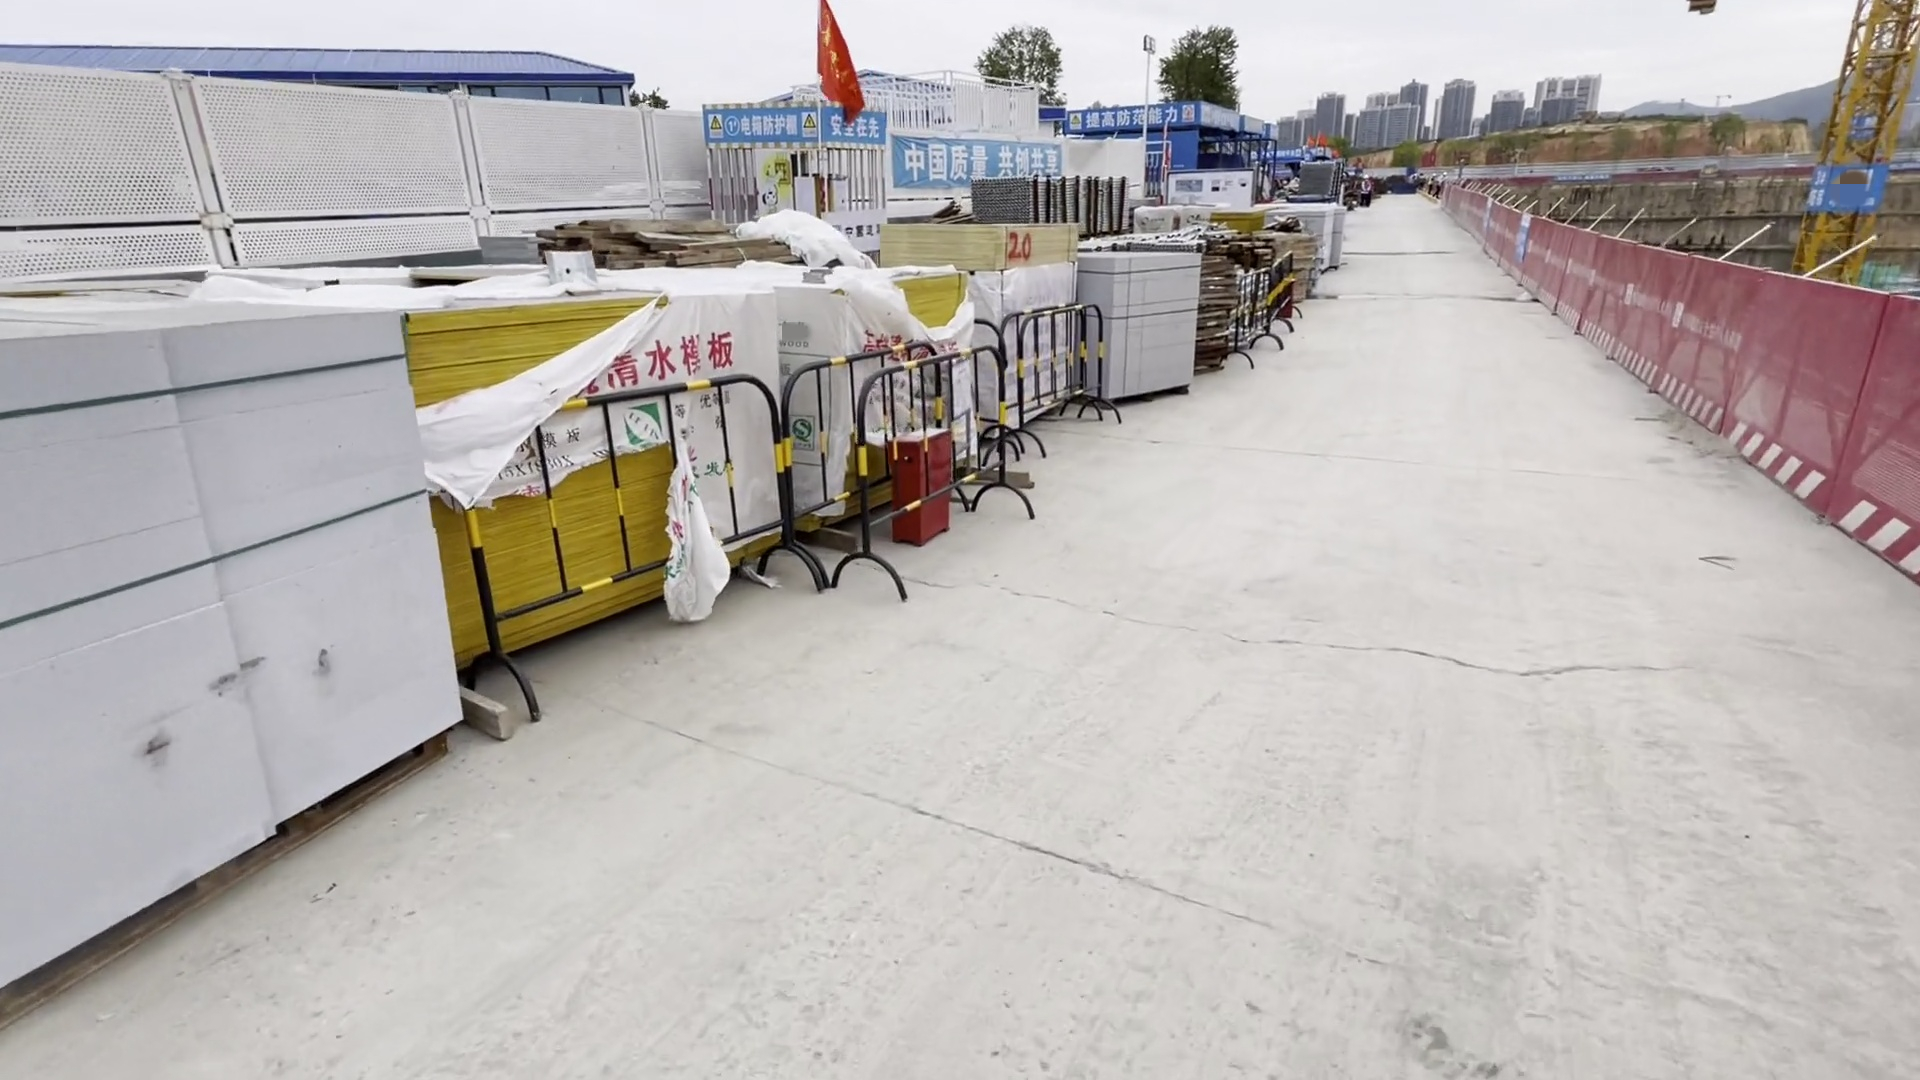brick: (1, 294, 454, 1007), (1077, 253, 1193, 401), (1263, 200, 1344, 274)
fence: (1431, 156, 1778, 440), (1721, 276, 1920, 564)
scaffold: (978, 179, 1137, 233)
slogan: (886, 140, 1062, 193), (721, 107, 899, 149), (1058, 105, 1203, 132)
